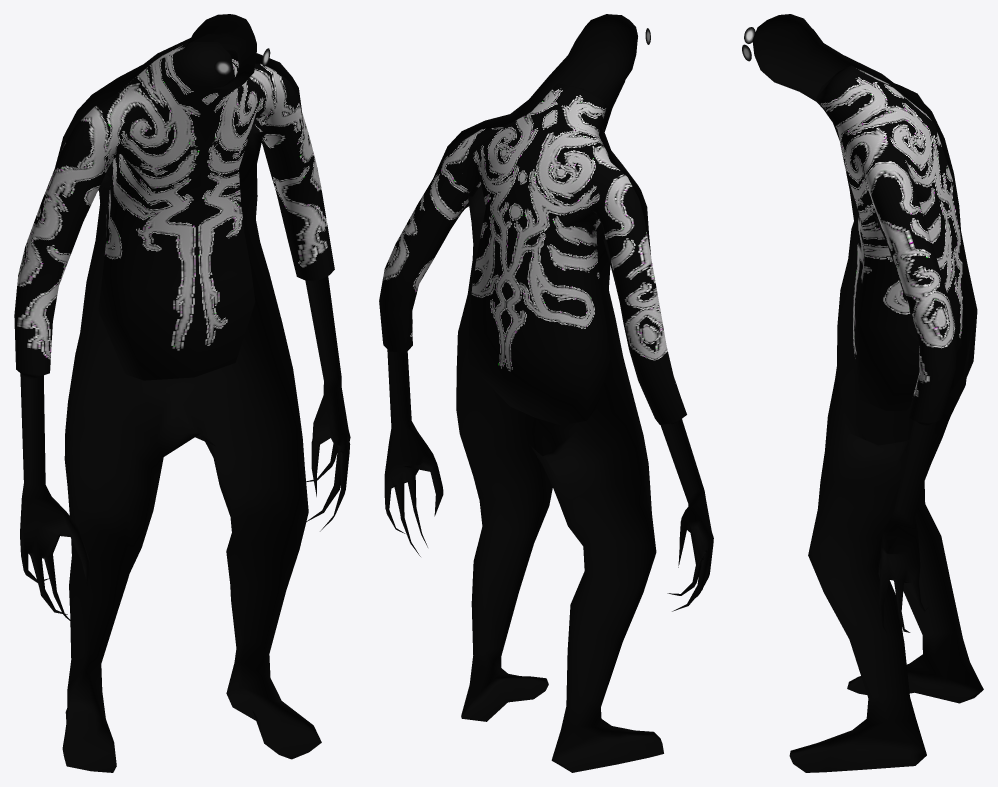
File: 206-umibozu.glb
3 renders of one model, left to right at view 1: azimuth 30°, elevation 25°; view 2: azimuth 150°, elevation 25°; view 3: azimuth 270°, elevation 25°, orthographic. The views are drawn at different scales.
Size of the model in its own units: 2.84 by 6.09 by 1.88.
2 materials, 2 textured.
